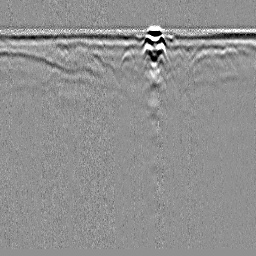cavity: (118, 47, 137, 71)
